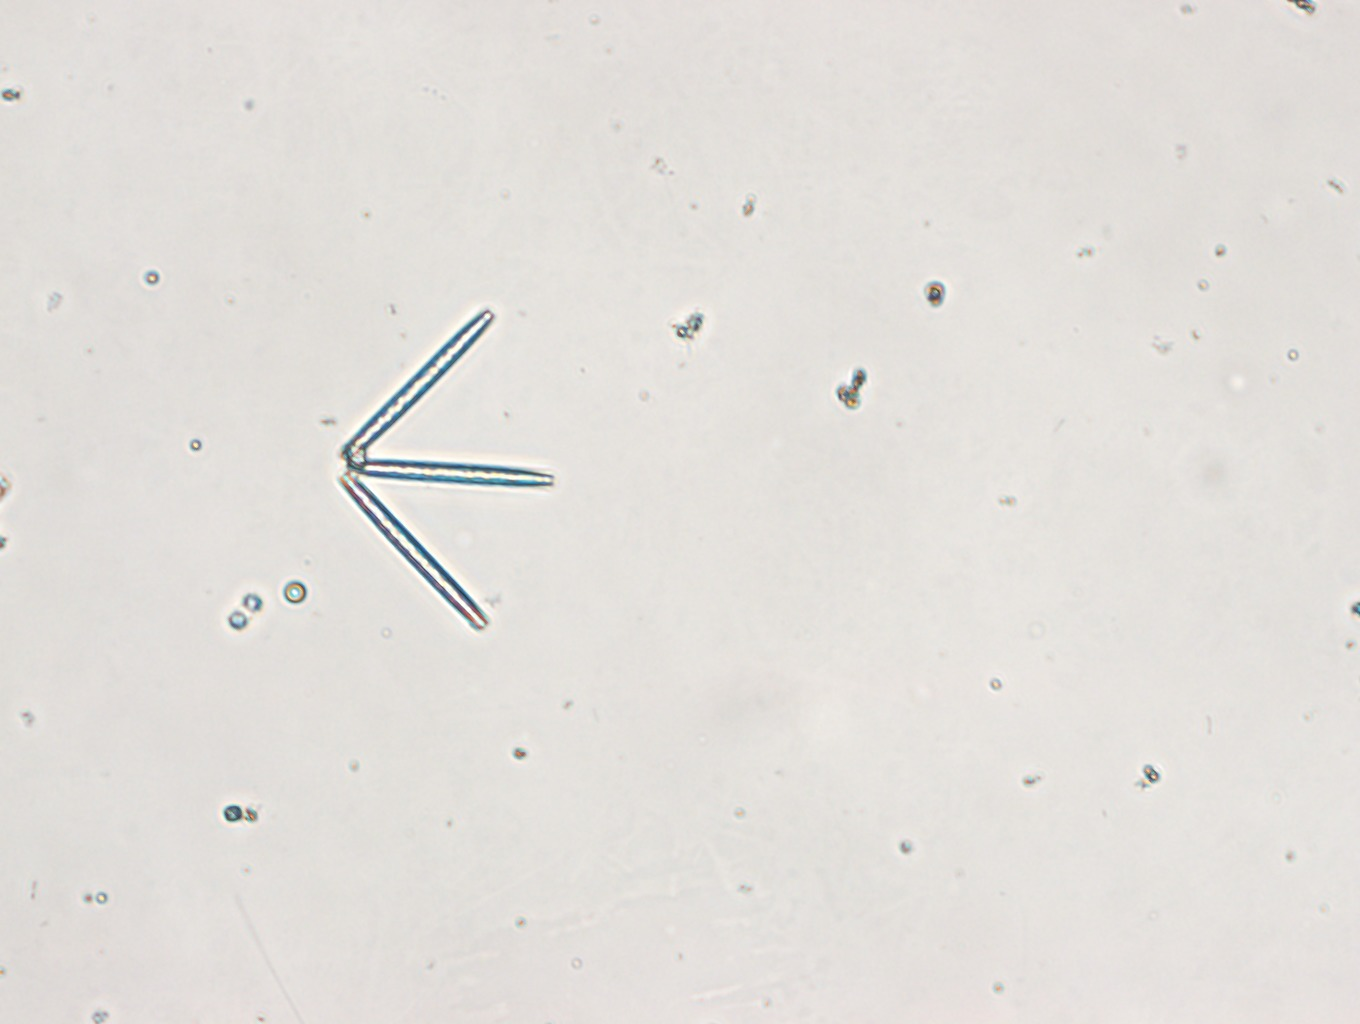thalassionema nitzschioides: (334, 308, 556, 631)
